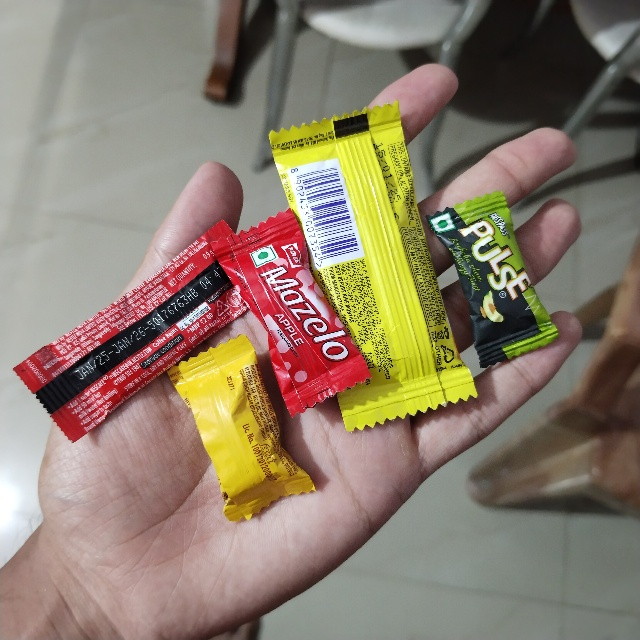Alpenlibe Creamfills: (168, 368, 261, 539)
Mazelo: (215, 247, 305, 432)
Nescafe Coffee: (14, 370, 272, 467)
Orbit: (269, 127, 403, 445)
Pulse: (428, 213, 509, 380)
